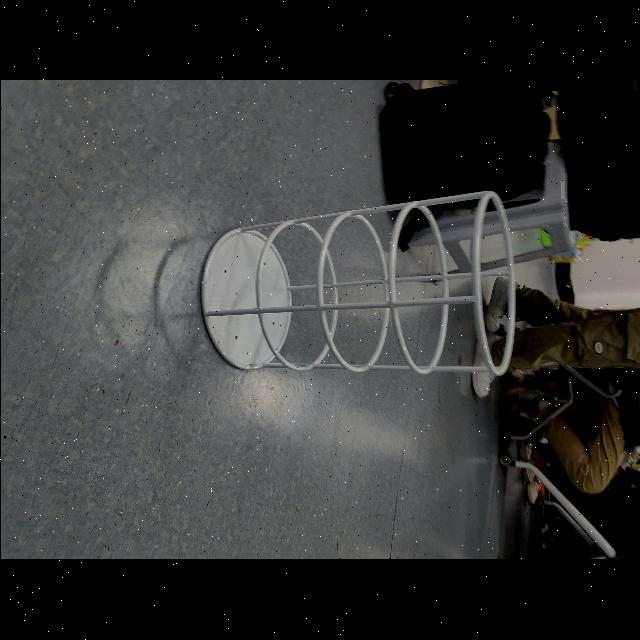S: (198, 185, 518, 382)
